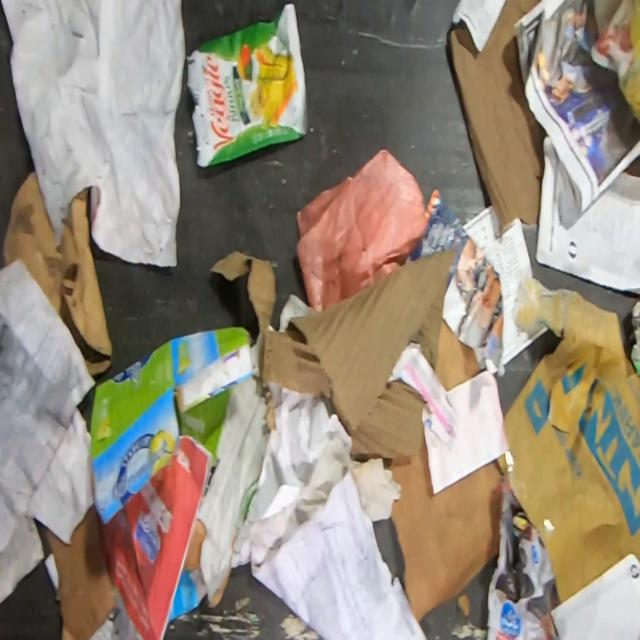cardboard: (210, 242, 482, 458), (496, 276, 640, 608), (89, 327, 254, 525), (1, 174, 113, 376), (391, 426, 504, 623), (452, 0, 546, 233), (48, 509, 115, 639)
soft_plastic: (296, 148, 430, 309), (186, 4, 309, 169), (595, 0, 640, 128)
